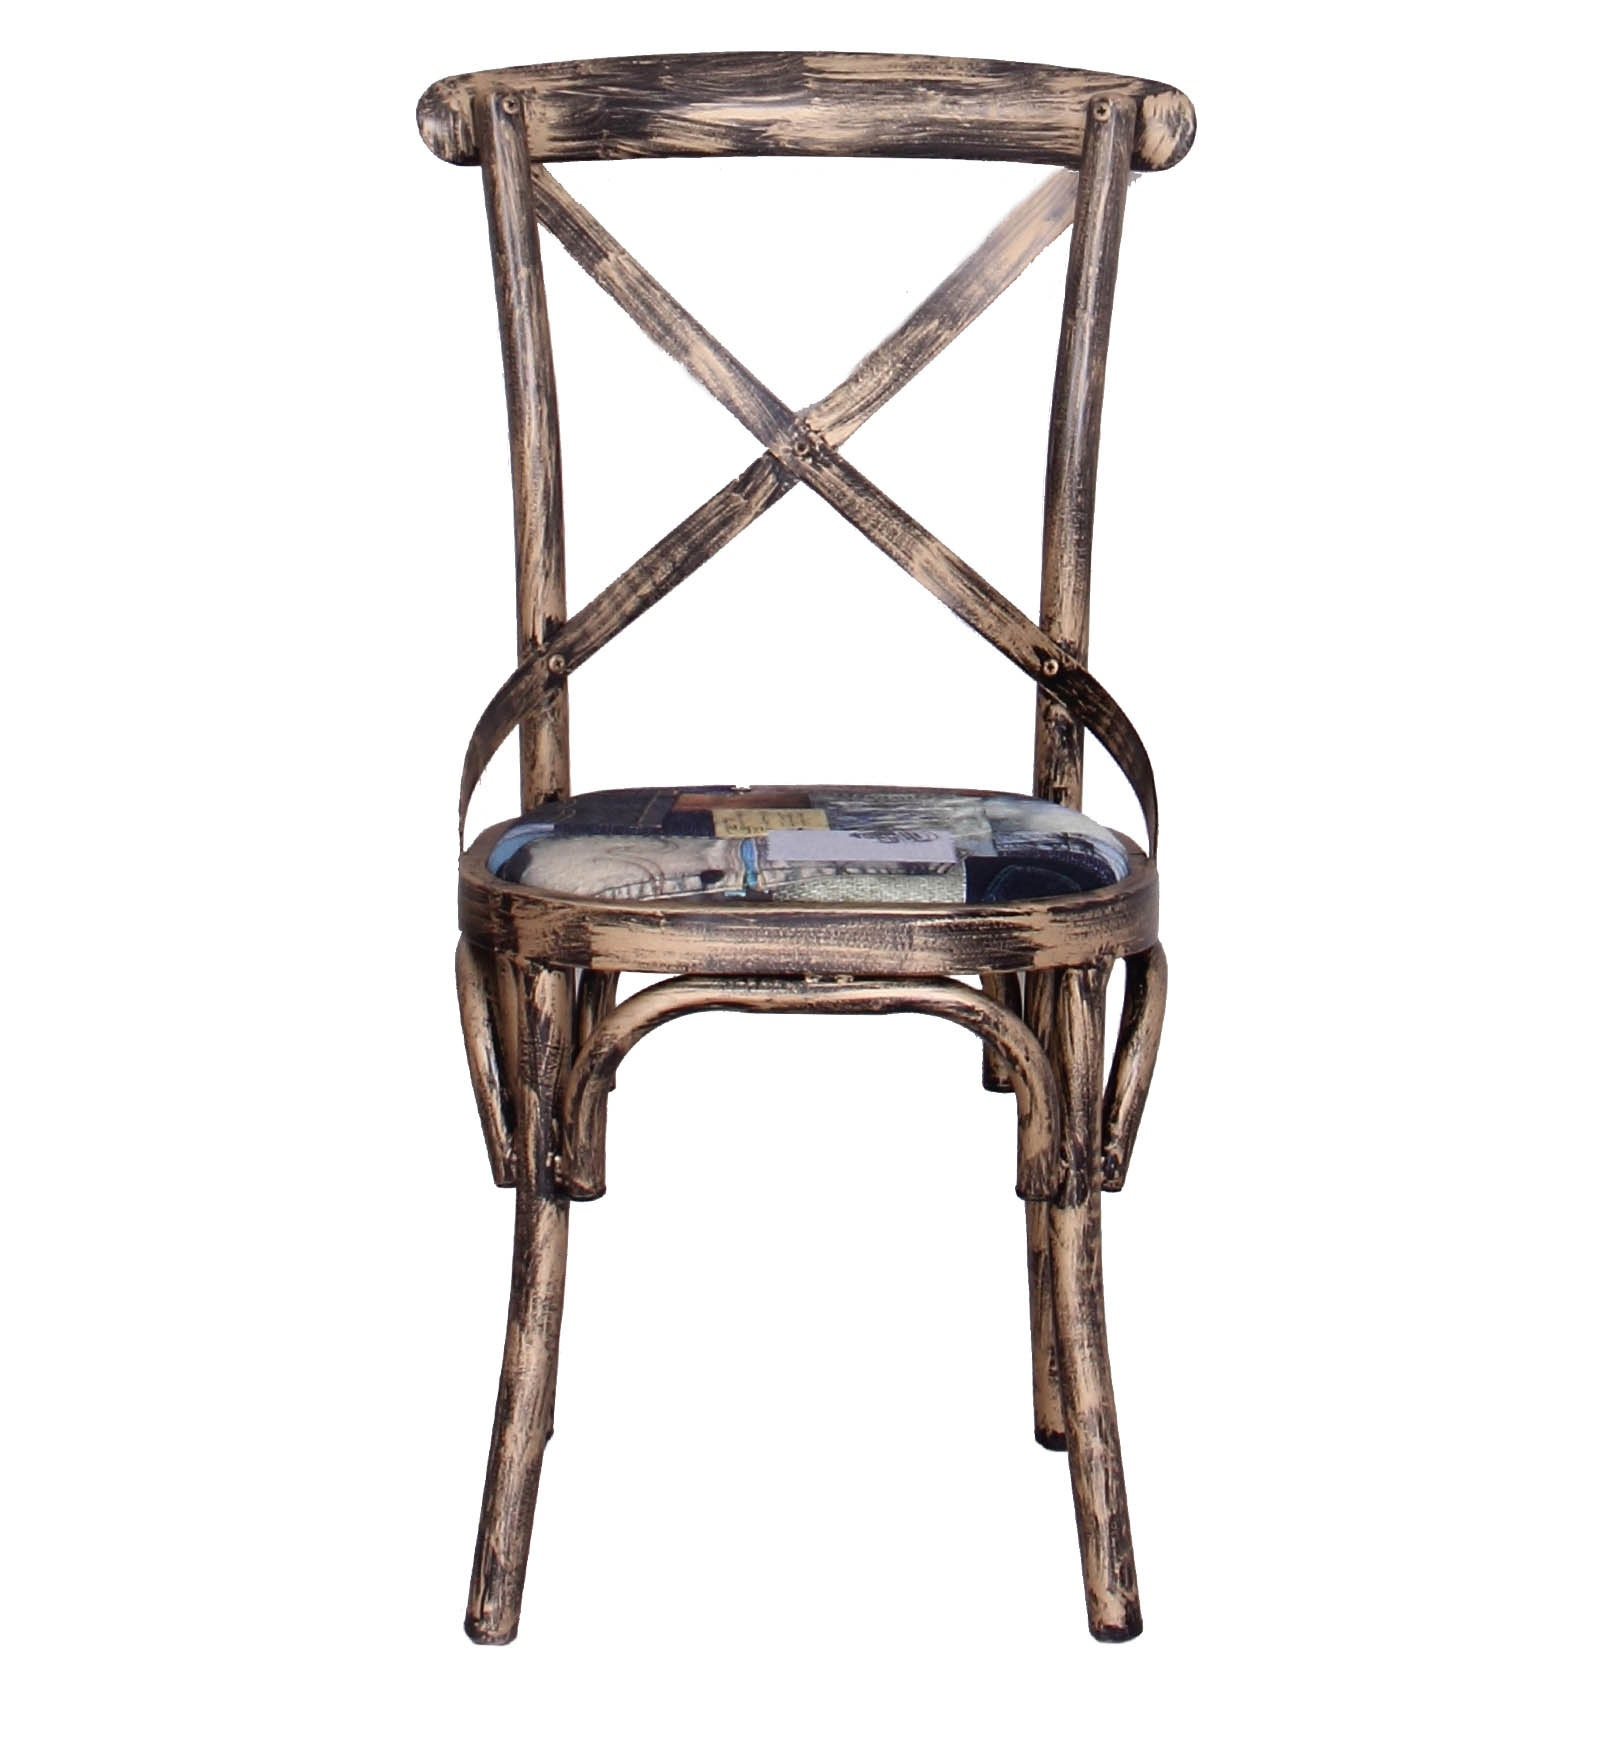Stanrock Metal Chair (Set of 2) in Antique Bronze by Bohemiana: (379, 12, 1243, 1714)
